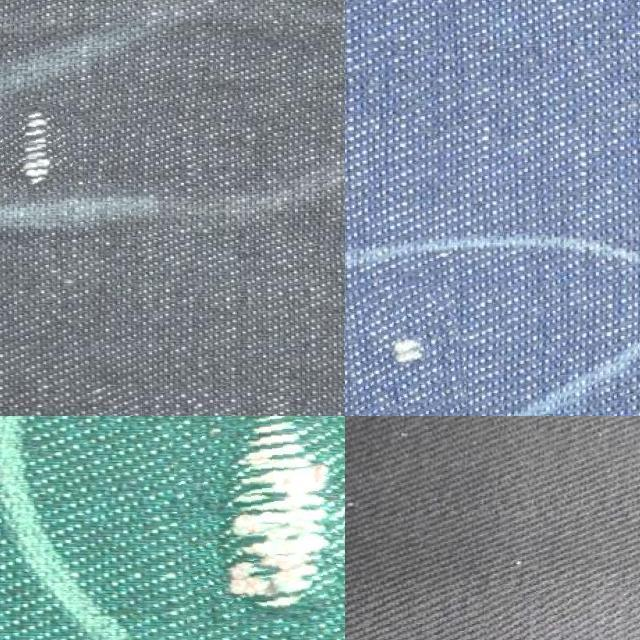stains: (167, 416, 345, 640), (345, 286, 464, 414), (0, 103, 84, 200)
